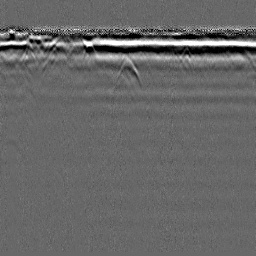cavity: (114, 55, 142, 88)
